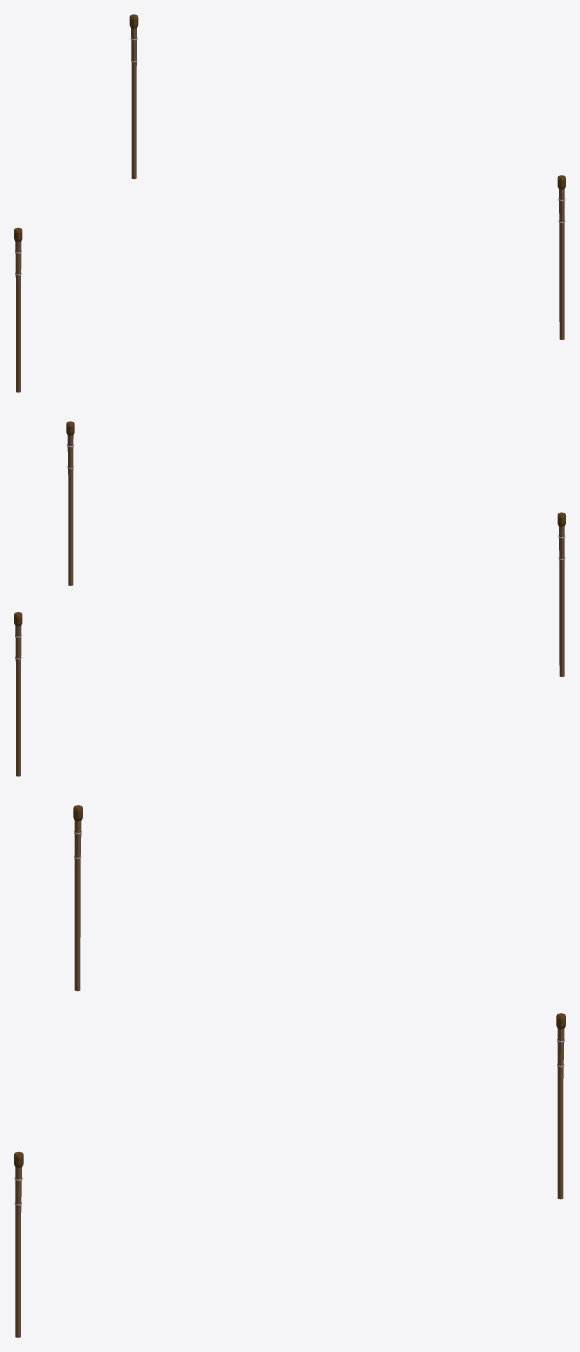
The model's file is Boss_lightSource.fbx.
3 renders of one model, top to bottom at view 1: azimuth 30°, elevation 25°; view 2: azimuth 150°, elevation 25°; view 3: azimuth 270°, elevation 25°, orthographic. The views are drawn at different scales.
Visible parts, largest first — view 1: Light Source; view 2: Light Source; view 3: Light Source.
Boxes of the visible parts, <box> form: Light Source: <box>14,14,565,392</box>; Light Source: <box>14,421,565,776</box>; Light Source: <box>14,805,565,1337</box>.
Bounding box in the file's own units: 15143 × 5958 × 12189.
